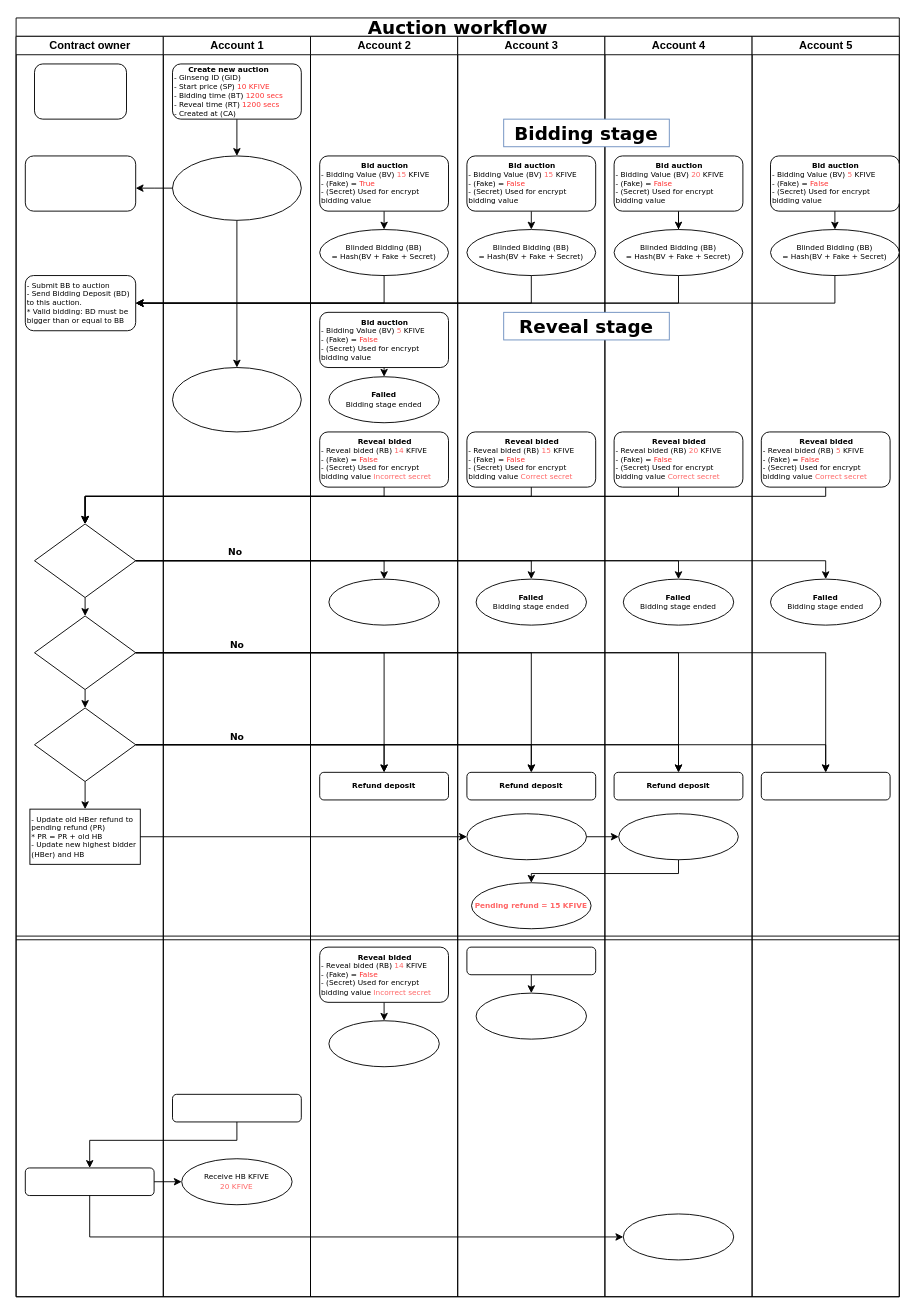
The diagram is 915 pixels wide and 1313 high, and some of its shapes have lost their labels. Each missing label, with the centre of its shape:
Auction end: point 236,1107
Bidding end at (BE) = CA + BT (Bidding end after BT 1200 secs): point 236,187
Check HBer and HB - Transfer HB to Owner - Transfer NFT to HBer: point 89,1181
Deploy marketplace: point 80,91
Failed Bidding stage ended Incorrect hash: point 383,601
Failed Reveal stage ended: point 383,1043
Fake = False?: point 85,652
Highest bidder = account 3 Highest bid = 15 KFIVE: point 526,836
Highest bidder = account 4 Highest bid = 20 KFIVE: point 678,836
Pay publication auction fee 0.1 KFIVE: point 80,183
RB > Highest bid (HB) > SP?: point 85,744
Receive back 15 KFIVE: point 530,1015
Receive NFT: point 678,1236
Refund deposit Receive back 5 KFIVE RB < SP: point 825,785
Reveal end at (RE) = BE + RT (Bidding end after RT 1200 secs): point 236,399
Submitted hashed value is matched?: point 85,560
Withdraw pending refund: point 531,960
